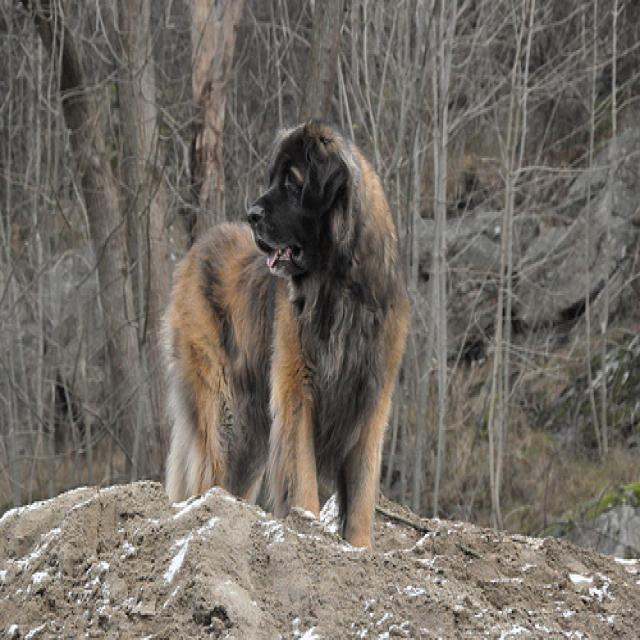dog-leonberger: (157, 106, 417, 555)
